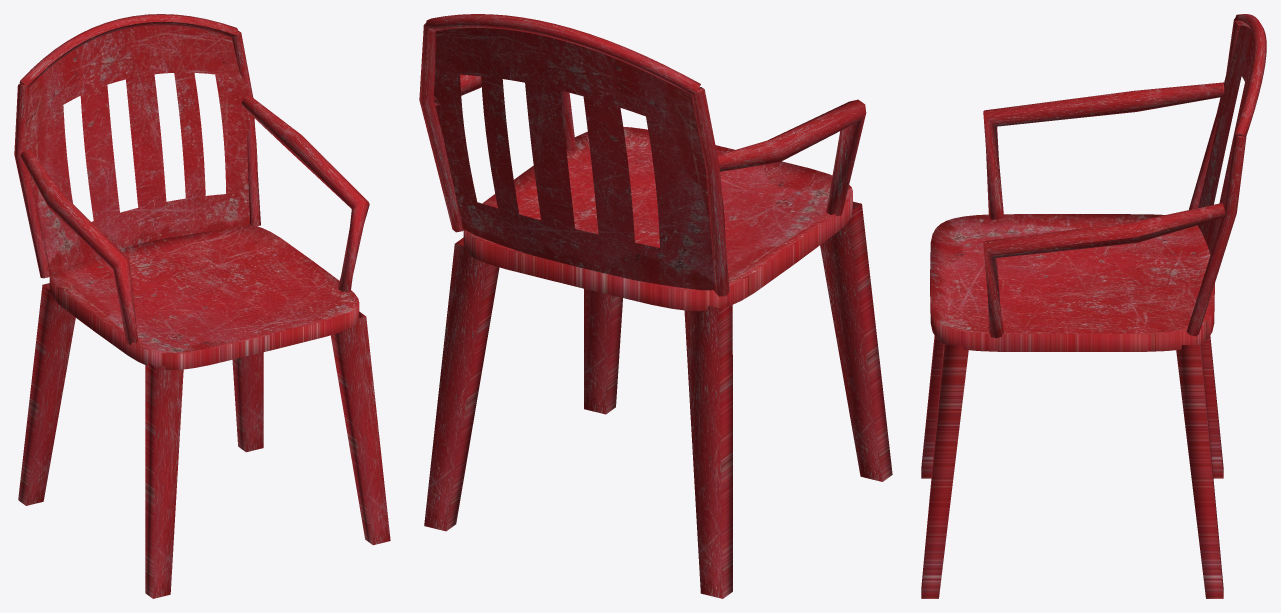
The model's file is prop_plastic_chair.glb.
3 renders of one model, left to right at view 1: azimuth 30°, elevation 25°; view 2: azimuth 150°, elevation 25°; view 3: azimuth 270°, elevation 25°, orthographic. The views are drawn at different scales.
Visible parts, largest first — view 1: prop_plastic_chair; view 2: prop_plastic_chair; view 3: prop_plastic_chair.
Part boxes in pixels (x1,y1,x2,y2): prop_plastic_chair: (14, 14, 390, 598); prop_plastic_chair: (419, 14, 892, 598); prop_plastic_chair: (921, 14, 1266, 598).
Bounding box in the file's own units: 0.5206 × 0.85 × 0.5405.
Materials: 1 (1 with a texture image).
